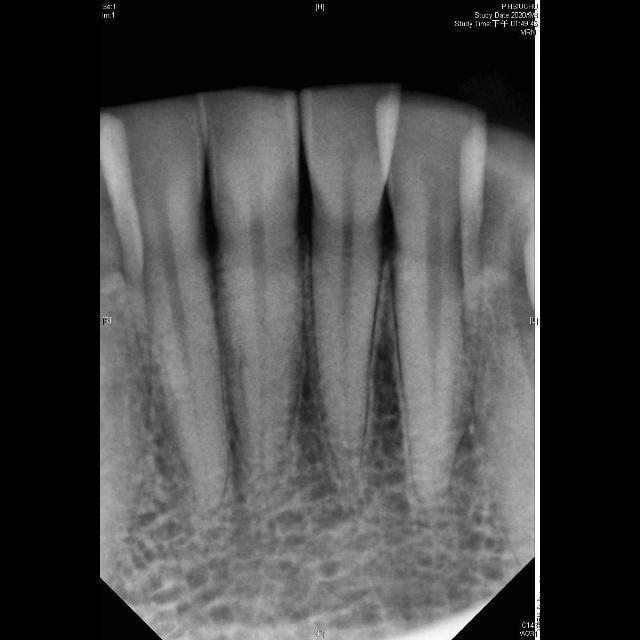teeth: (104, 106, 227, 508), (301, 85, 399, 484), (387, 101, 483, 505), (201, 93, 298, 471)
